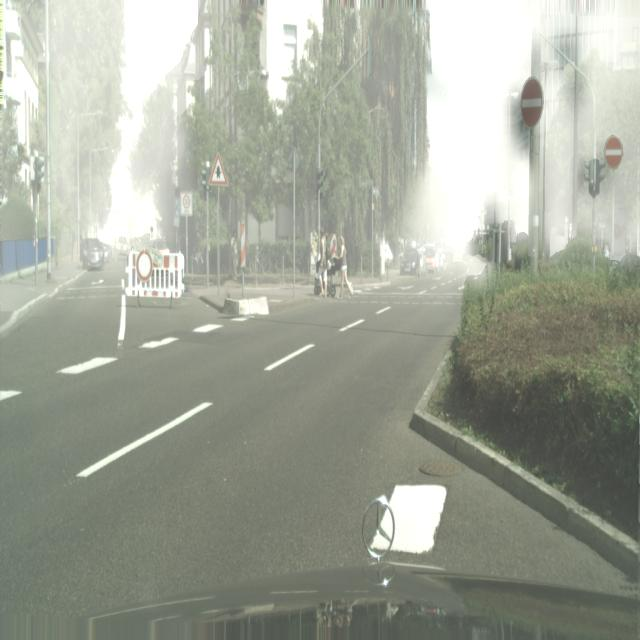bus: (331, 234, 353, 299), (318, 227, 328, 298)
person: (81, 238, 105, 271), (400, 245, 420, 276), (424, 244, 441, 271), (117, 234, 130, 258), (102, 241, 112, 263)
